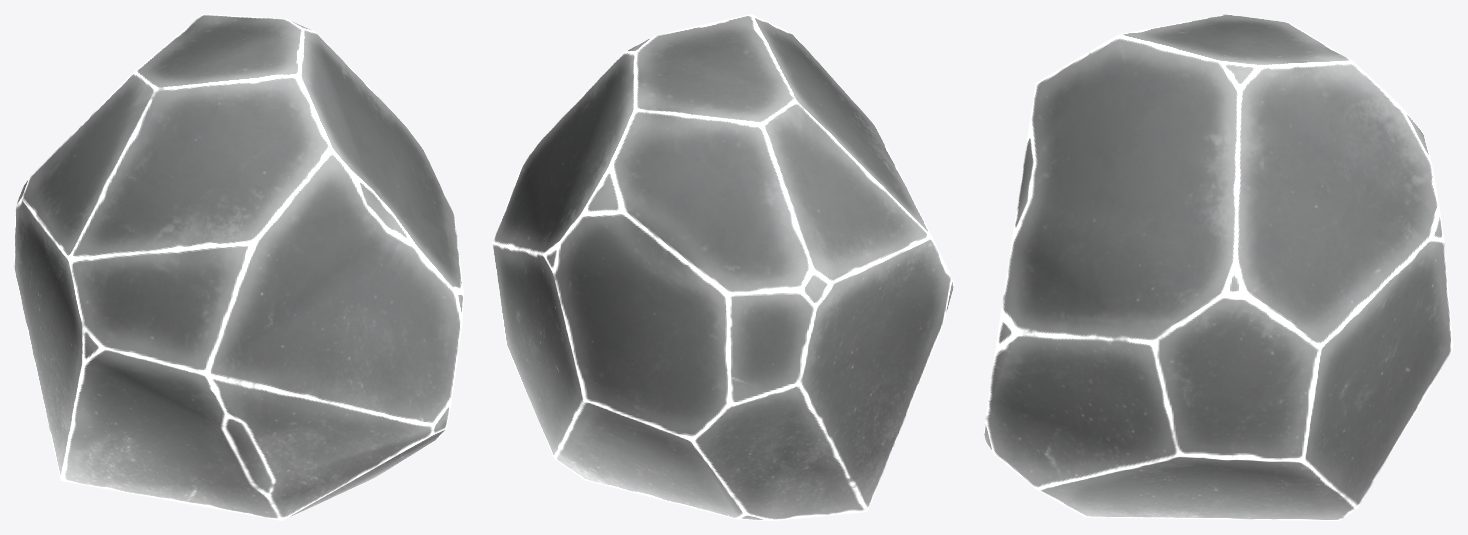
The model's file is Moonstone_07.gltf.
3 views of the same model, side by side, from view 1: azimuth 30°, elevation 25°; view 2: azimuth 150°, elevation 25°; view 3: azimuth 270°, elevation 25° (orthographic). The views are drawn at different scales.
Visible parts, largest first — view 1: Mesh; view 2: Mesh; view 3: Mesh.
Part boxes in pixels (left/top/right/bottom): Mesh: left=14, top=14, right=463, bottom=520; Mesh: left=492, top=14, right=954, bottom=520; Mesh: left=983, top=14, right=1453, bottom=520.
Bounding box in the file's own units: 0.018 × 0.0185 × 0.0174.
1 material, 1 textured.
